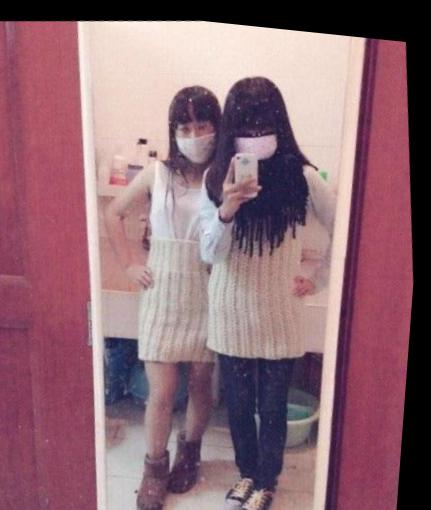OK: (228, 105, 287, 166)
WRONG: (175, 112, 220, 161)
